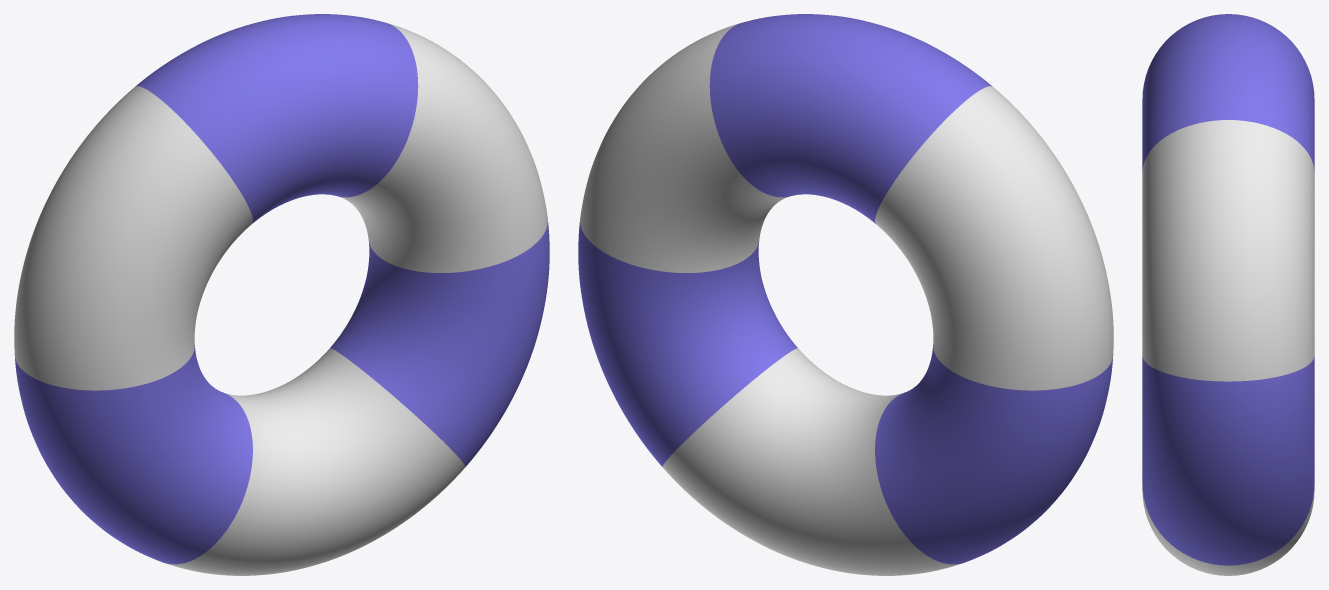
Rendered from help.glb.
3 views of the same model, side by side, from view 1: azimuth 30°, elevation 25°; view 2: azimuth 150°, elevation 25°; view 3: azimuth 270°, elevation 25° (orthographic). The views are drawn at different scales.
Visible parts, largest first — view 1: Gelbejimo ratas; view 2: Gelbejimo ratas; view 3: Gelbejimo ratas.
Boxes of the visible parts, x1=… form: Gelbejimo ratas: x1=14, y1=14, x2=549, y2=575; Gelbejimo ratas: x1=578, y1=14, x2=1113, y2=575; Gelbejimo ratas: x1=1142, y1=14, x2=1314, y2=575.
Bounding box in the file's own units: 26.45 × 26.45 × 8.1.
